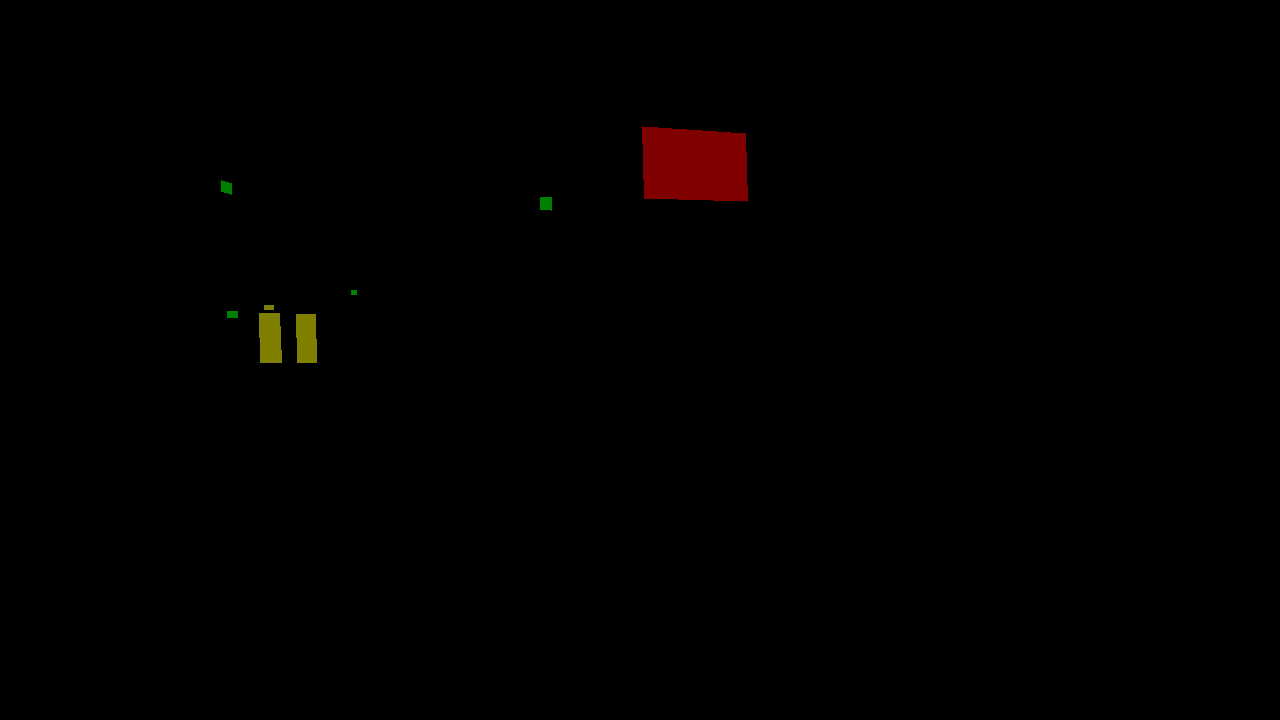door: (259, 313, 281, 362), (296, 314, 316, 362)
sign: (540, 197, 551, 210), (221, 180, 231, 194), (227, 311, 237, 317), (264, 305, 273, 309), (351, 290, 356, 294)
tvmonitor: (642, 126, 747, 201)
